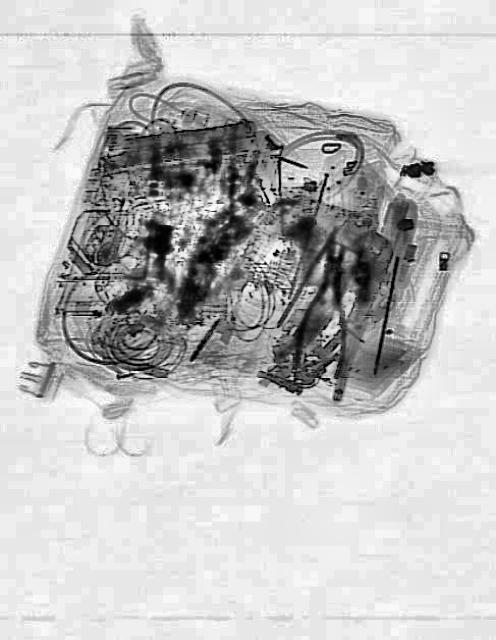Pliers: (289, 231, 361, 381)
